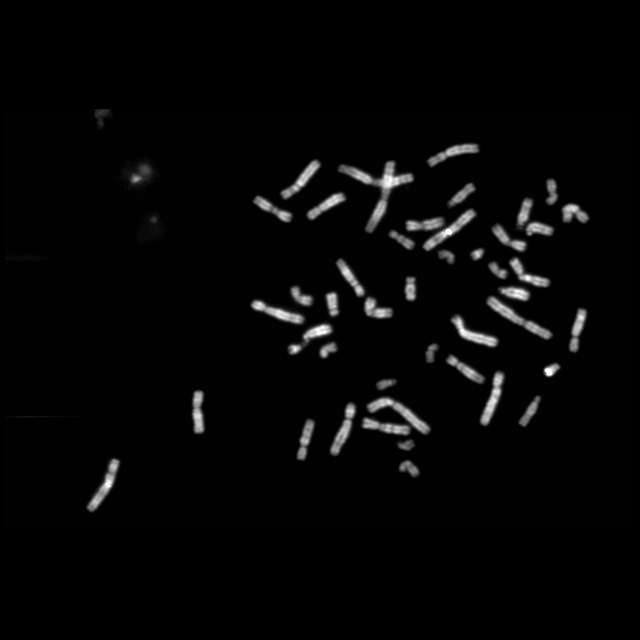chromosome: (486, 296, 552, 338), (368, 398, 430, 434), (366, 160, 396, 232), (423, 210, 477, 250), (86, 456, 122, 512), (338, 166, 414, 188), (280, 160, 320, 200), (452, 314, 498, 348), (288, 324, 332, 354), (250, 300, 304, 324), (332, 403, 356, 455), (511, 256, 549, 288), (481, 372, 503, 426), (428, 144, 480, 166), (446, 353, 484, 382), (307, 193, 347, 220), (336, 259, 364, 297), (253, 196, 291, 222), (492, 223, 526, 251), (362, 418, 410, 436), (296, 418, 314, 460), (448, 182, 476, 208), (570, 308, 586, 352), (518, 395, 540, 427), (406, 216, 444, 232), (130, 165, 156, 188), (364, 298, 392, 318), (562, 204, 590, 223), (192, 390, 204, 434), (388, 230, 414, 250), (516, 196, 532, 228), (526, 222, 554, 238), (500, 286, 530, 300), (290, 286, 312, 304), (399, 460, 419, 478), (374, 376, 396, 392), (545, 180, 559, 204), (489, 262, 507, 278), (326, 292, 338, 316), (425, 344, 439, 364), (406, 275, 416, 301), (439, 250, 455, 266), (320, 342, 336, 358), (470, 248, 486, 262), (544, 363, 560, 377), (398, 438, 416, 450)
